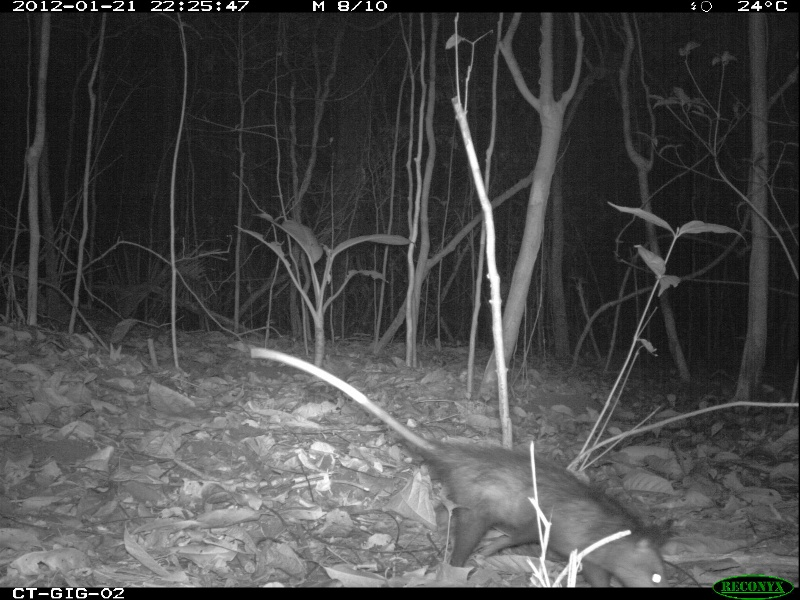opossum: (247, 342, 674, 586)
